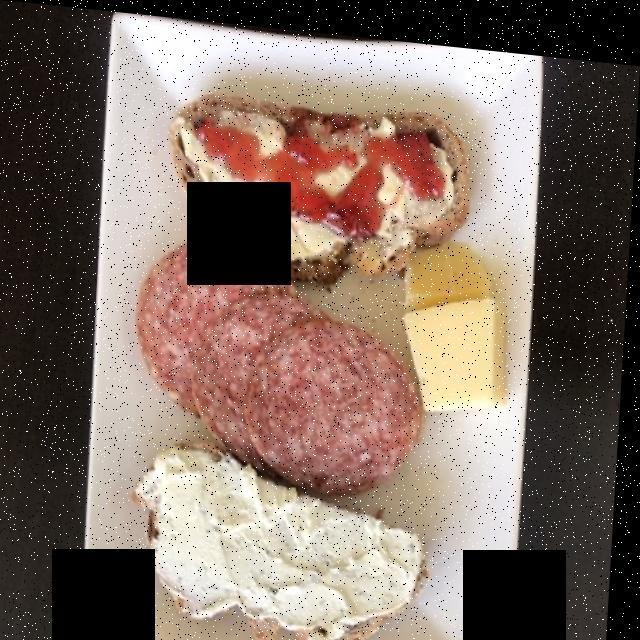bread: (140, 98, 468, 640)
cheese: (139, 451, 423, 623)
jam: (208, 117, 444, 237)
